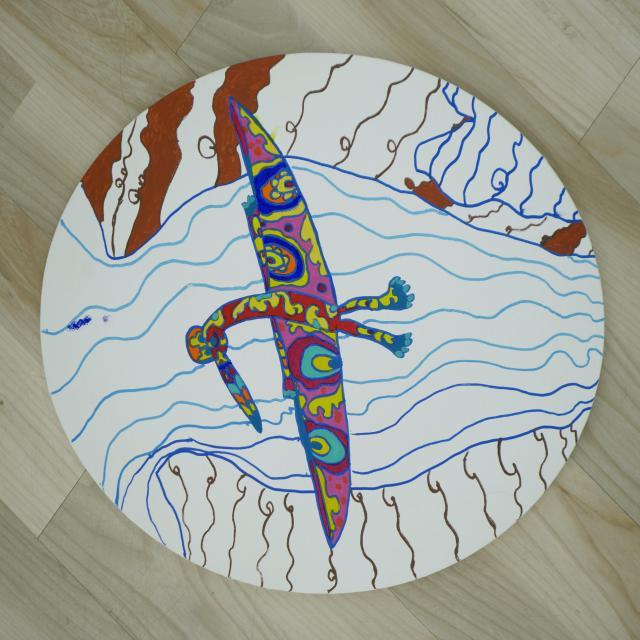painting: (41, 54, 603, 592)
